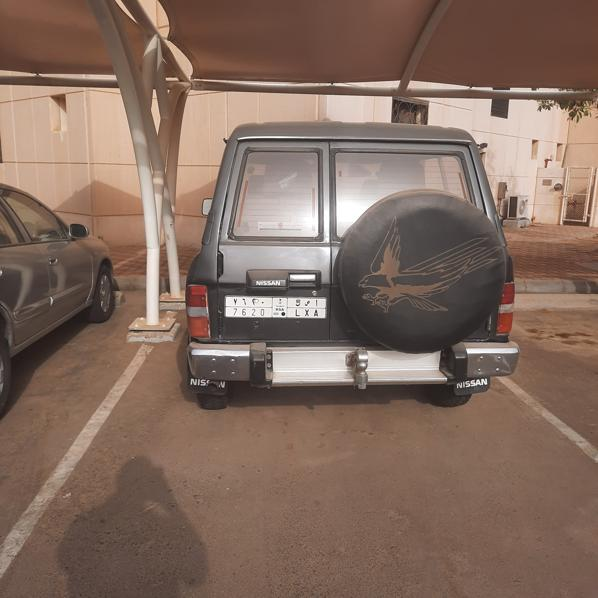numberplate: (224, 294, 328, 320)
